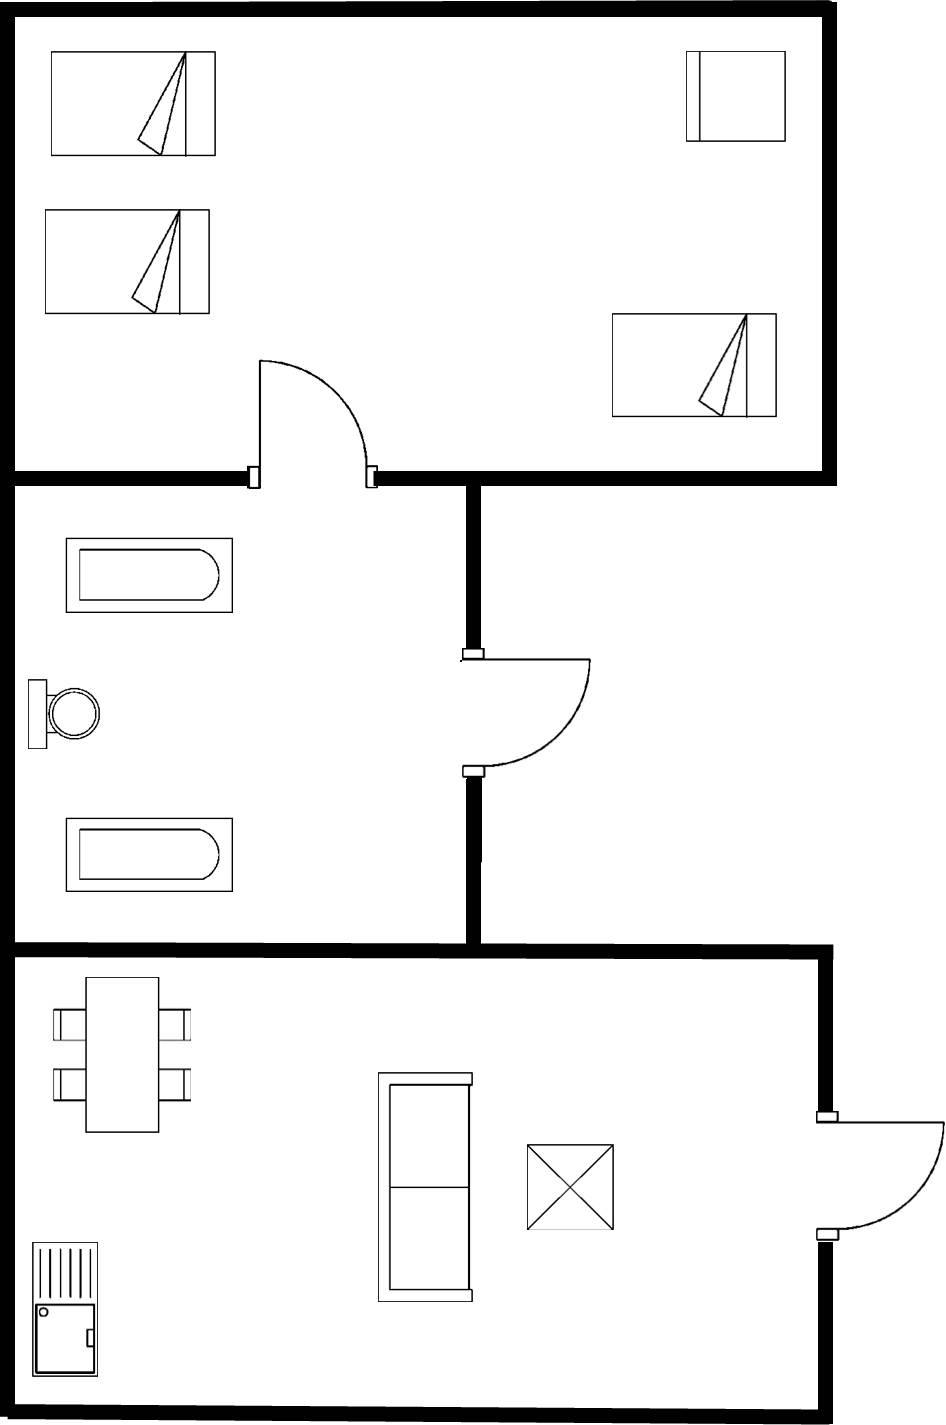bed: (599, 306, 788, 427), (41, 44, 223, 169), (38, 201, 217, 323)
coffee_table: (519, 1137, 620, 1237)
dining_table: (42, 969, 206, 1142), (514, 1143, 617, 1244)
large_sink: (23, 673, 110, 755)
large_sofa: (366, 1063, 483, 1312)
sink: (24, 1234, 105, 1384)
small_sofa: (679, 41, 792, 153)
tub: (58, 528, 241, 623), (59, 809, 242, 901)
